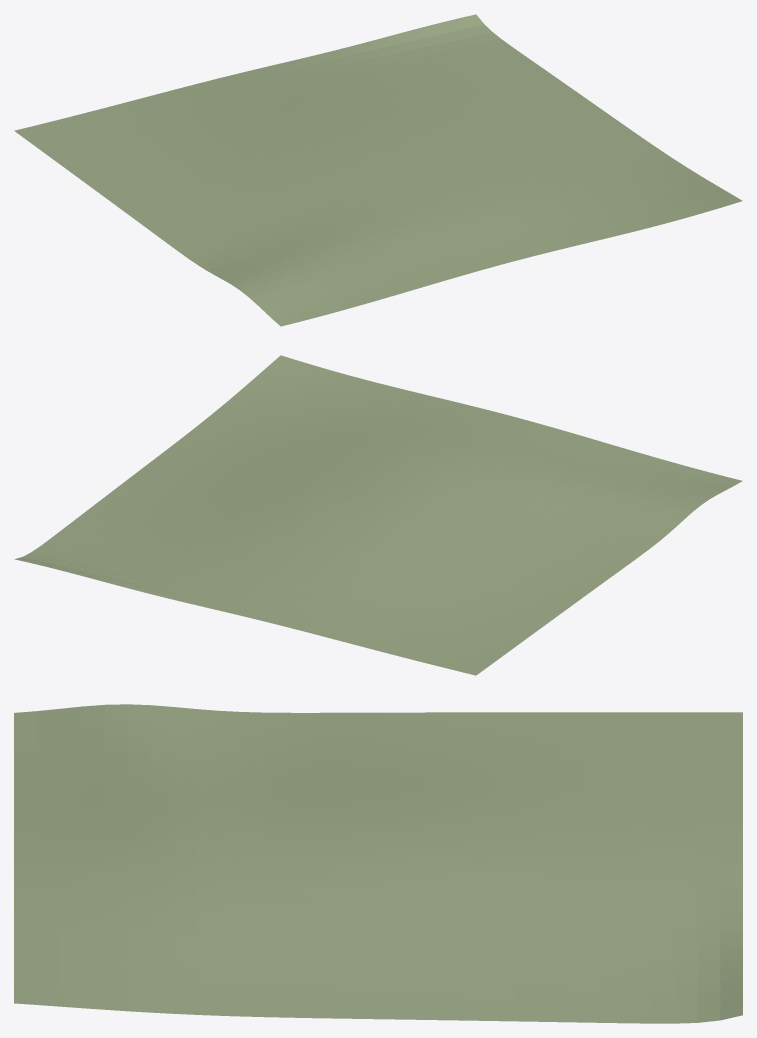
Rendered from lunar-2-1.glb.
The picture shows the model from 3 angles, top to bottom: view 1: azimuth 30°, elevation 25°; view 2: azimuth 150°, elevation 25°; view 3: azimuth 270°, elevation 25°; orthographic projection. The views are drawn at different scales.
Parts seen in each view (by area): view 1: lunar-2-1; view 2: lunar-2-1; view 3: lunar-2-1.
Boxes of the visible parts, x1=… form: lunar-2-1: x1=14, y1=14, x2=742, y2=326; lunar-2-1: x1=14, y1=355, x2=742, y2=675; lunar-2-1: x1=14, y1=704, x2=742, y2=1023.
Size of the model in its own units: 128 by 4.41 by 128.
